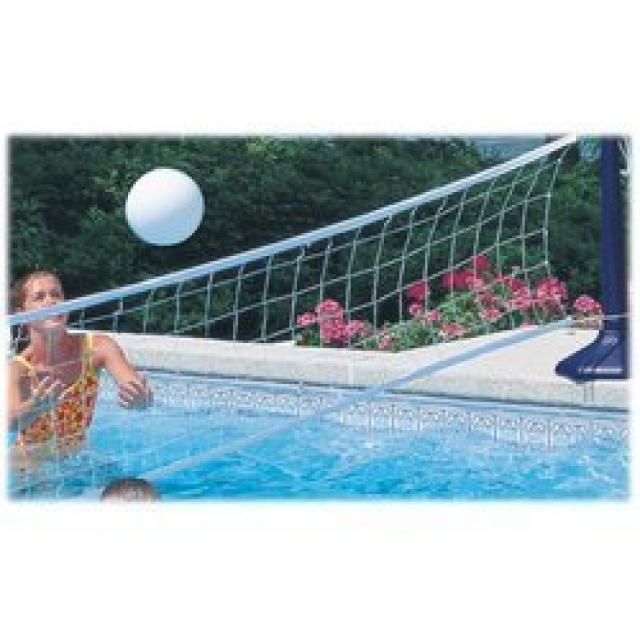volleyball: (125, 168, 203, 244)
